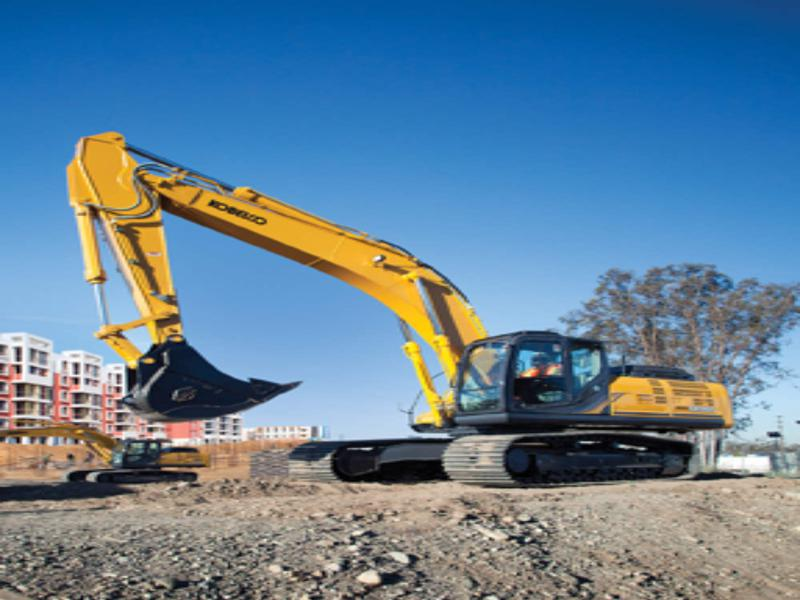shovel: (55, 125, 736, 496)
